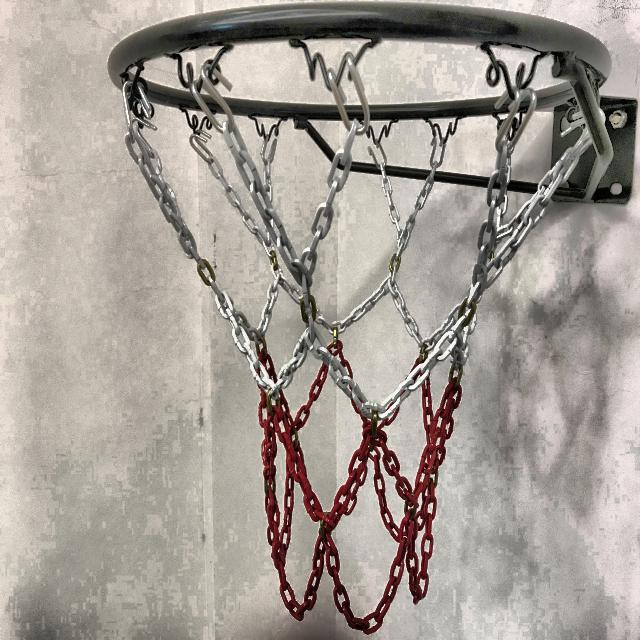rim: (108, 6, 612, 630)
